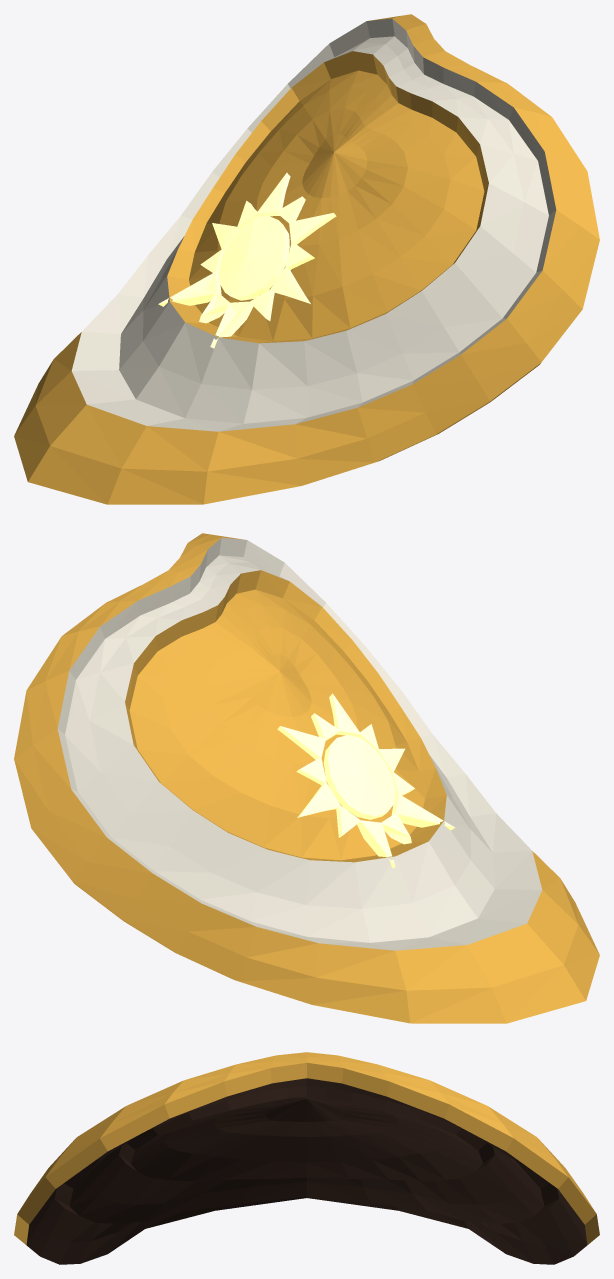
File: A2S_KnightPauldron.fbx
3 renders of one model, top to bottom at view 1: azimuth 30°, elevation 25°; view 2: azimuth 150°, elevation 25°; view 3: azimuth 270°, elevation 25°, orthographic.
Parts seen in each view (by area): view 1: A2S_KnightPauldron; view 2: A2S_KnightPauldron; view 3: A2S_KnightPauldron.
Part boxes in pixels (<box>): A2S_KnightPauldron: <box>14,14,599,504</box>; A2S_KnightPauldron: <box>14,533,599,1023</box>; A2S_KnightPauldron: <box>14,1052,599,1264</box>.
Size of the model in its own units: 32.99 by 22.77 by 36.06.
